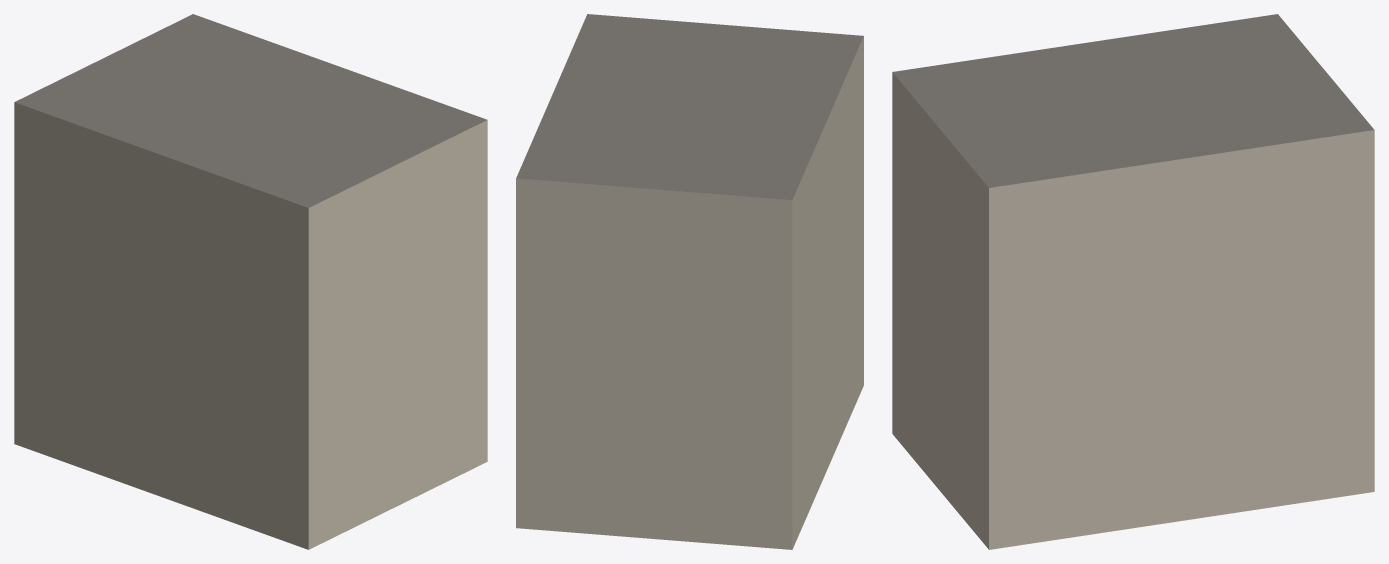
3 renders of one model, left to right at view 1: azimuth 30°, elevation 25°; view 2: azimuth 150°, elevation 25°; view 3: azimuth 270°, elevation 25°, orthographic. The views are drawn at different scales.
Visible parts, largest first — view 1: HP-w446934933; view 2: HP-w446934933; view 3: HP-w446934933.
Boxes of the visible parts, box(x1,y1,x2,y2) form: HP-w446934933: box(14, 14, 487, 549); HP-w446934933: box(516, 14, 863, 549); HP-w446934933: box(892, 14, 1374, 549).
Size of the model in its own units: 18.56 by 18 by 21.73.
